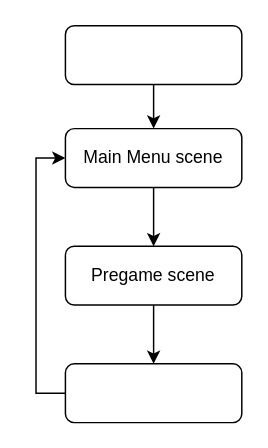
Image size: 268x448. Some labels were removed from this diagram. Here are the shapes that lost their labels. From the top down, the centre of each, then its label:
At point 153,54: "Welcome scene".
At point 153,392: "Game scene".
